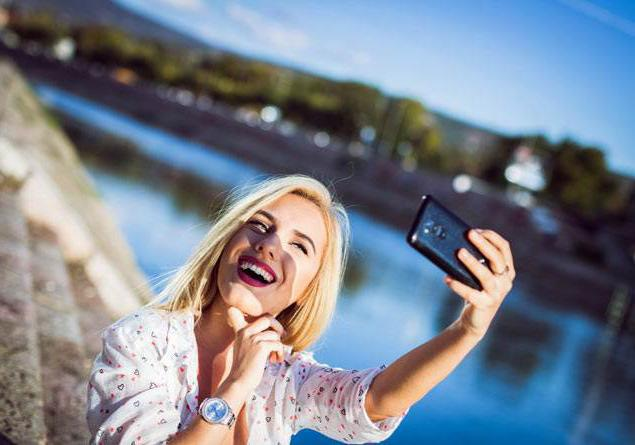face: (217, 193, 324, 319)
